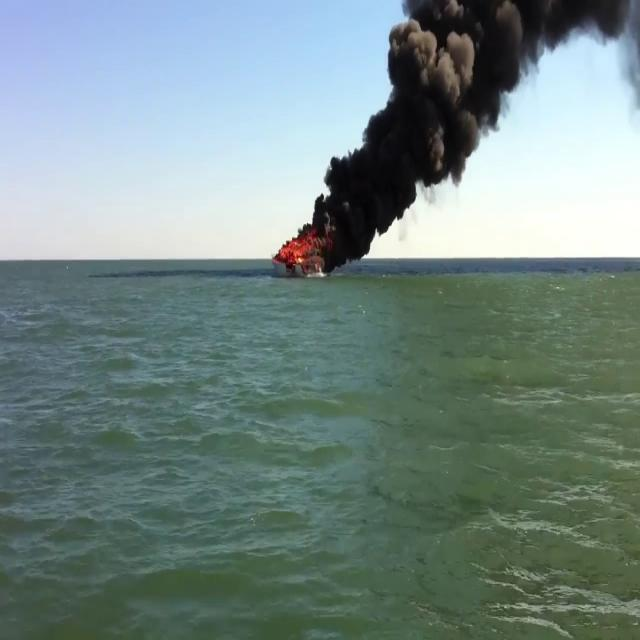Fire: (272, 225, 322, 272)
Smoke: (304, 0, 640, 261)
